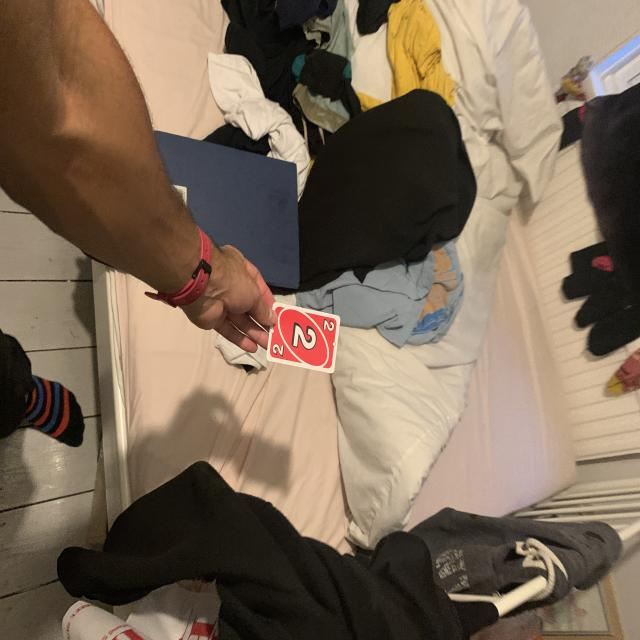lred-2: (320, 318, 337, 335)
